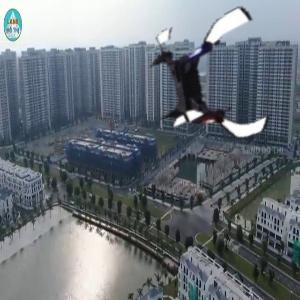drone: (142, 11, 286, 155)
